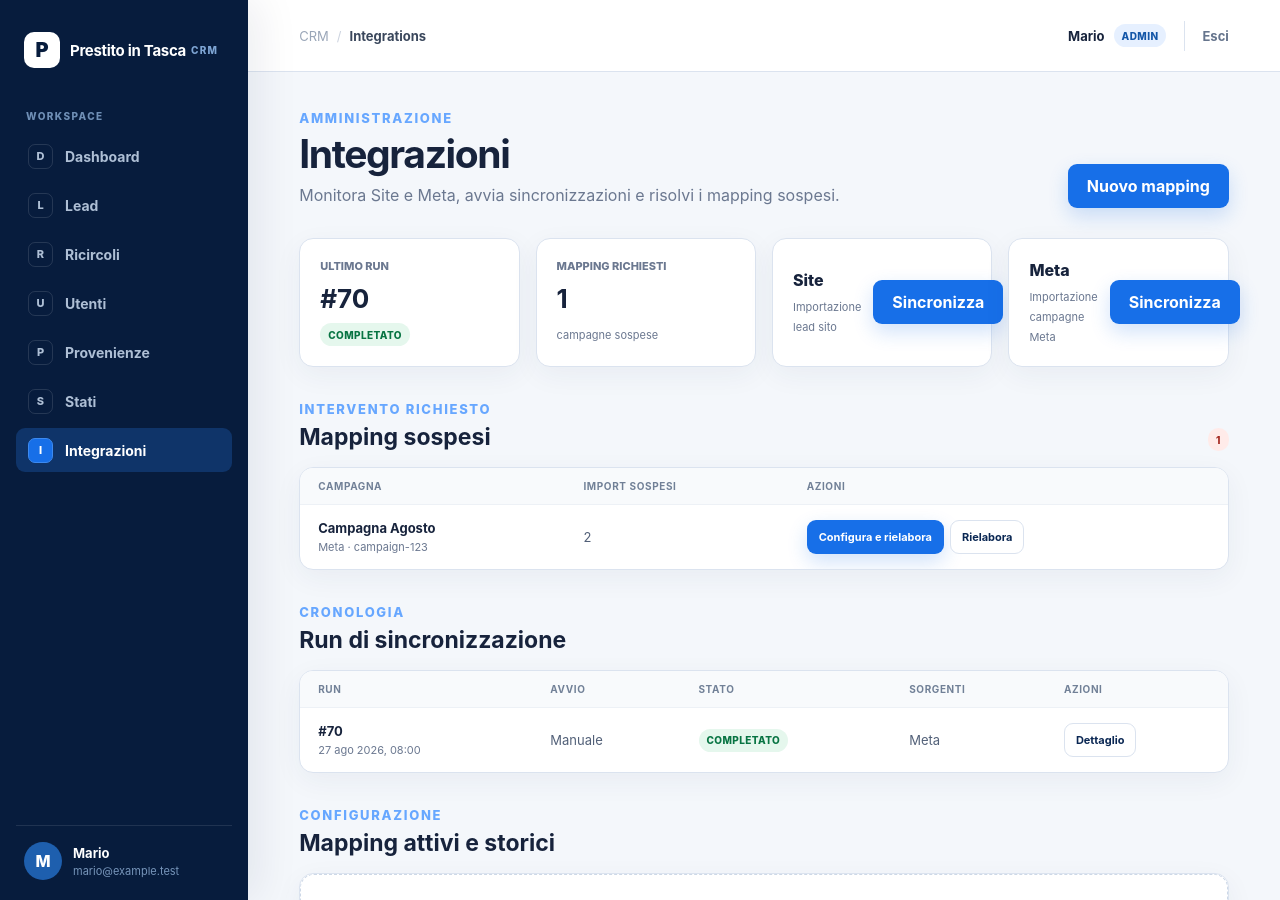
Test case: autenticazione applicazione › avvia sync e risolve un mapping sospeso con rielaborazione
Expected: the heading "Integrazioni" is shown, [299,130,510,177]
Expected: the text "Campagna Agosto" is shown, [318,520,436,536]
Click the button with aria-label "Sincronizza Site".
click(938, 302)  # box [873,280,1003,324]
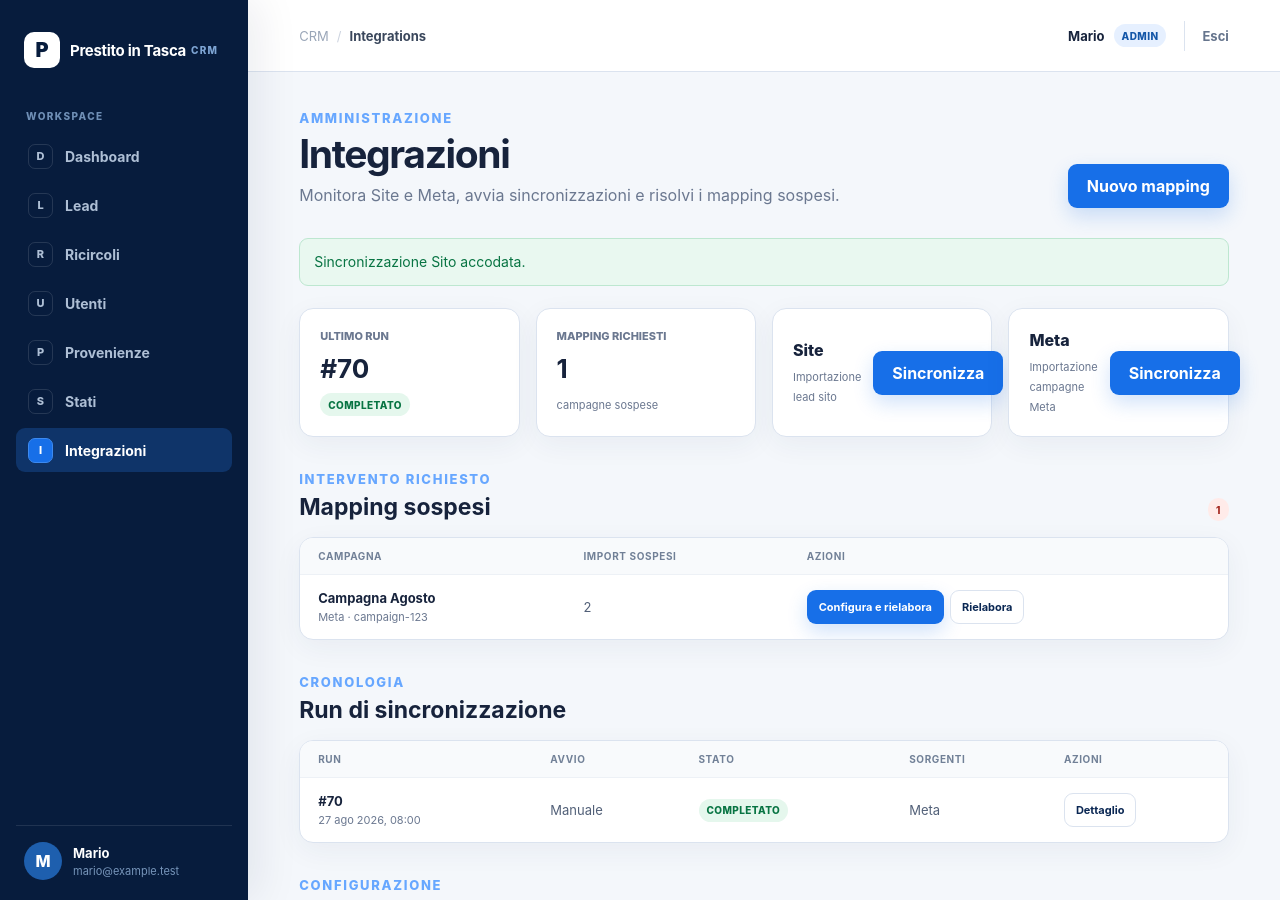
Click the button "Configura e rielabora".
click(875, 608)  # box [807,590,944,624]
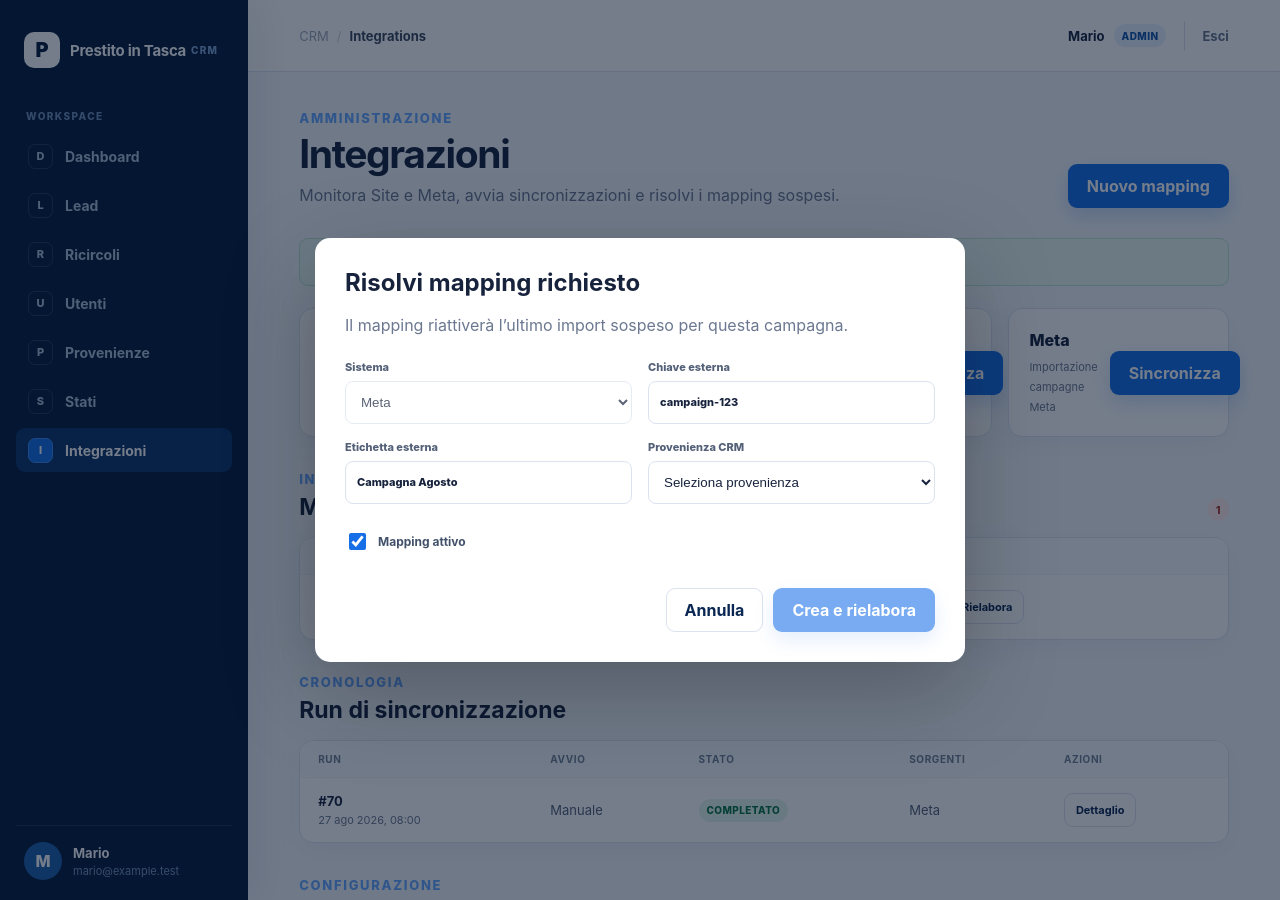
Select "Campagne Meta" in the dropdown labelled "Provenienza CRM" at (792, 482), box [648,461,935,504]
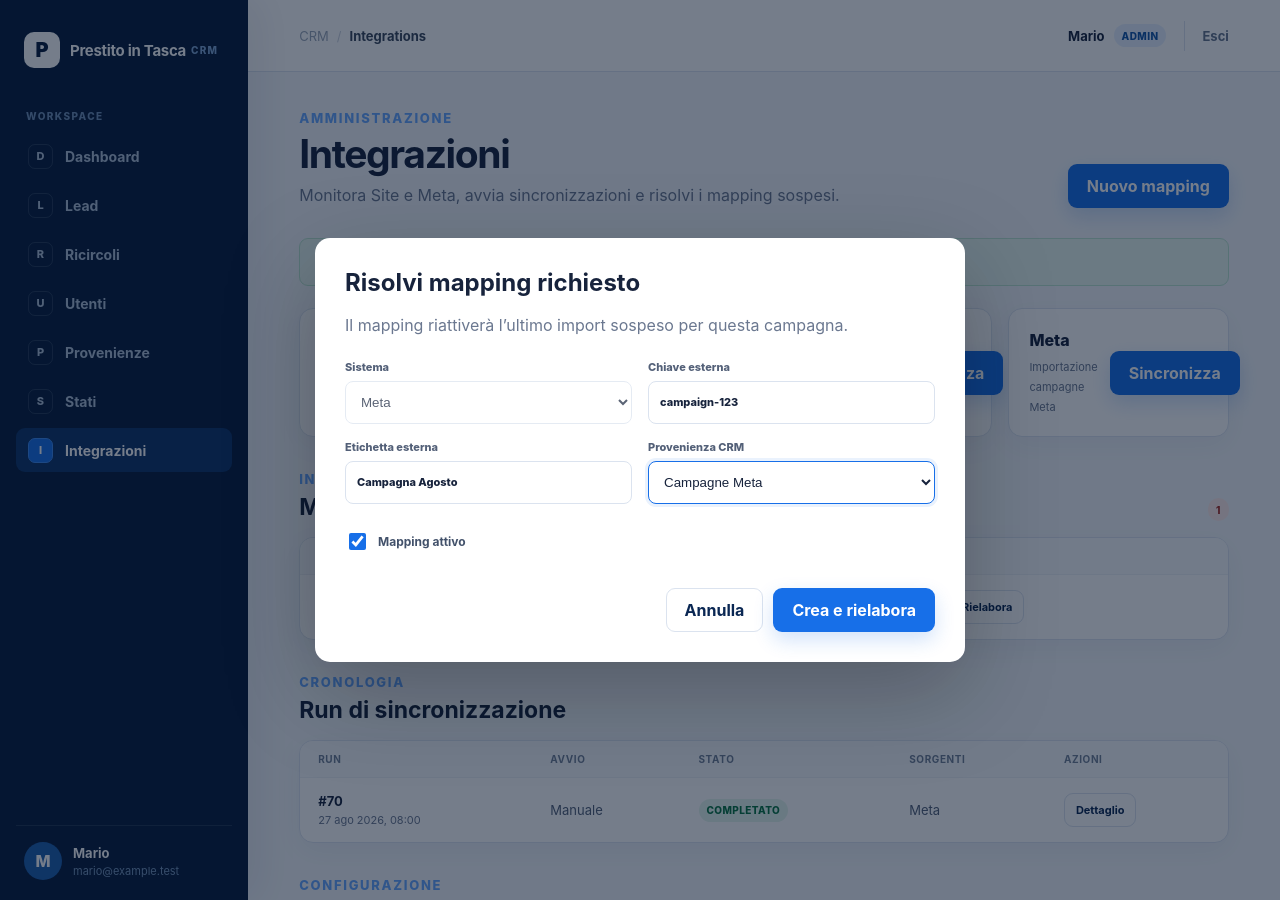
Click the button "Crea e rielabora".
click(854, 610)  # box [773,588,935,632]
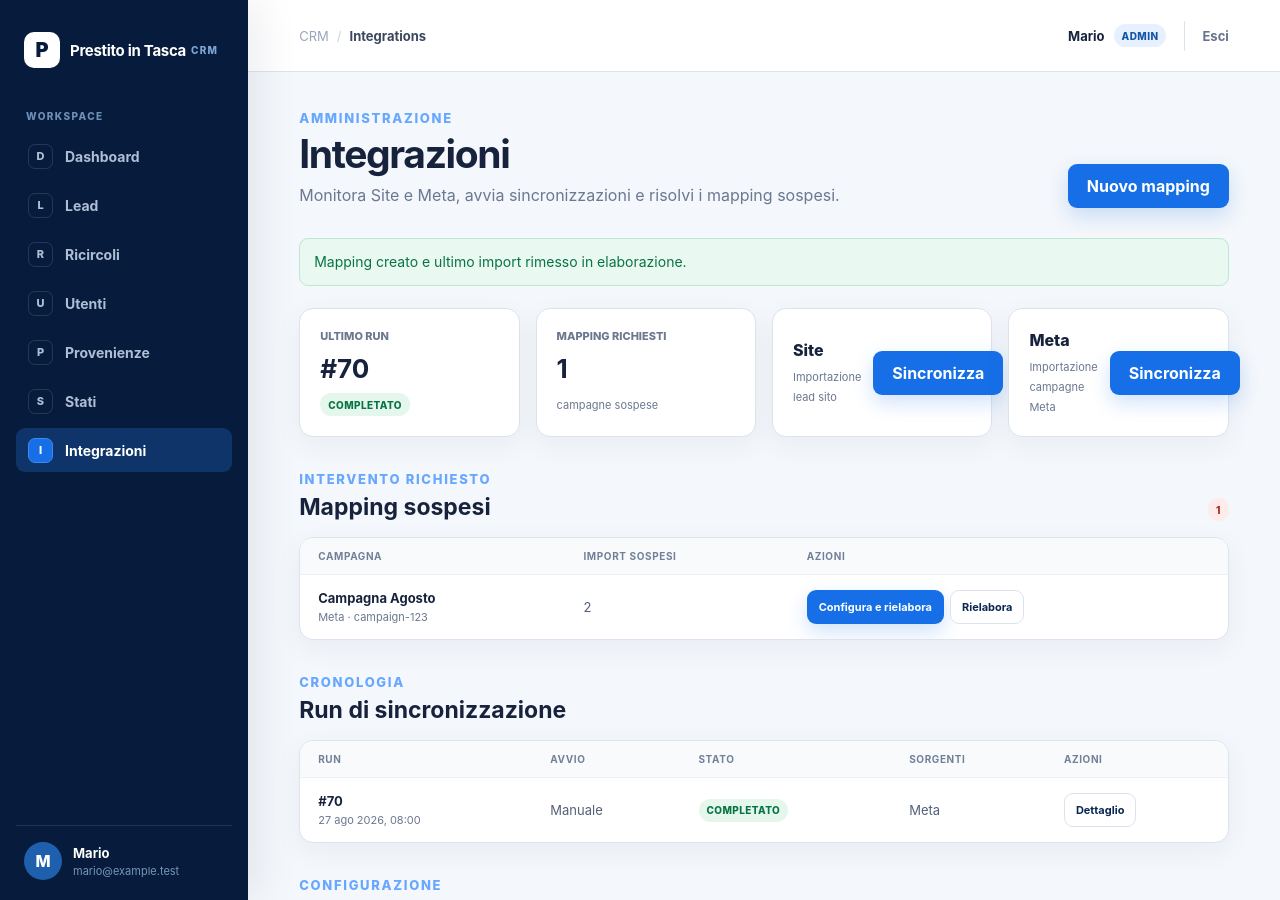
Click the button "Dettaglio".
click(1100, 810)  # box [1064,794,1136,828]
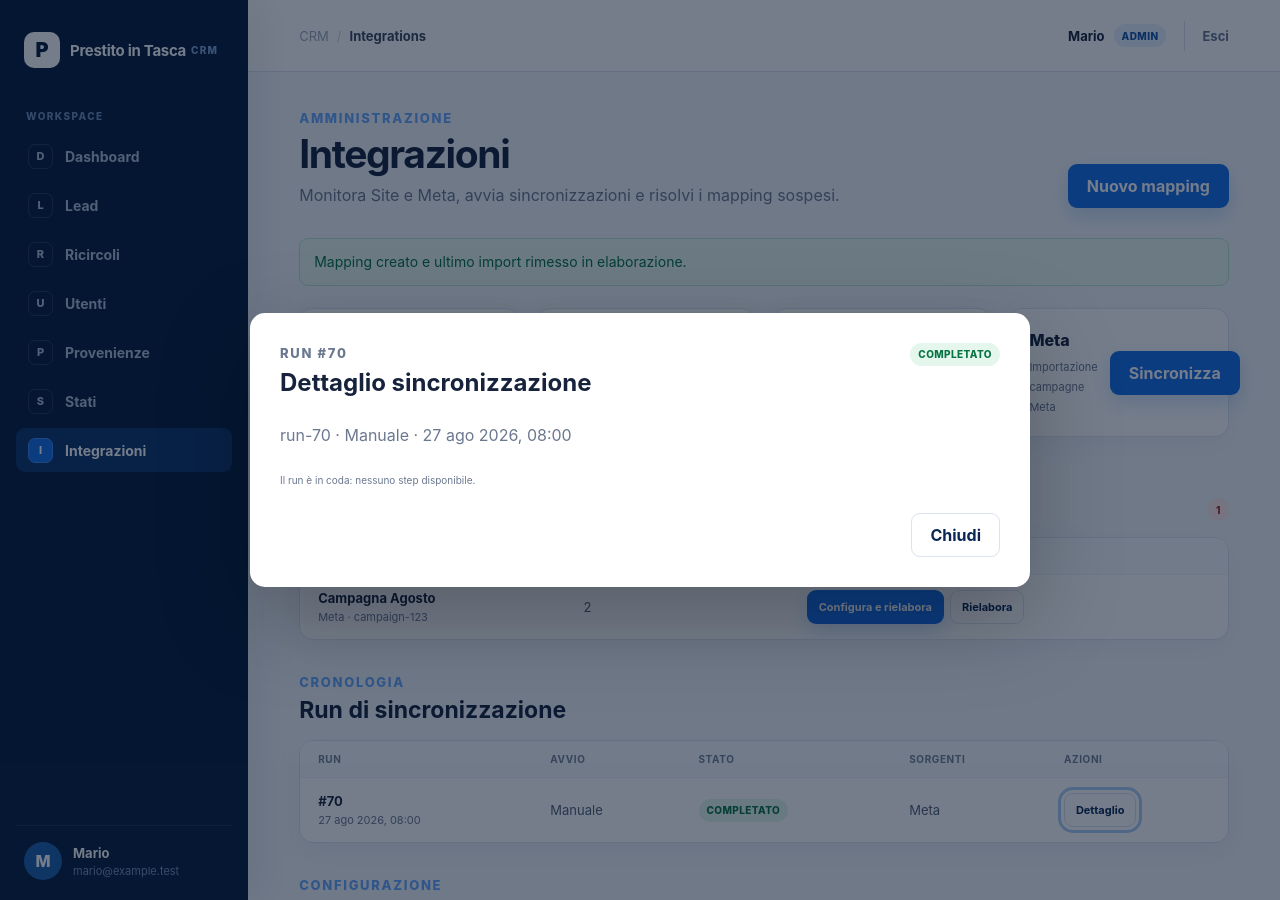
Expected: the dialog "Dettaglio sincronizzazione" is shown, [250,313,1030,587]
